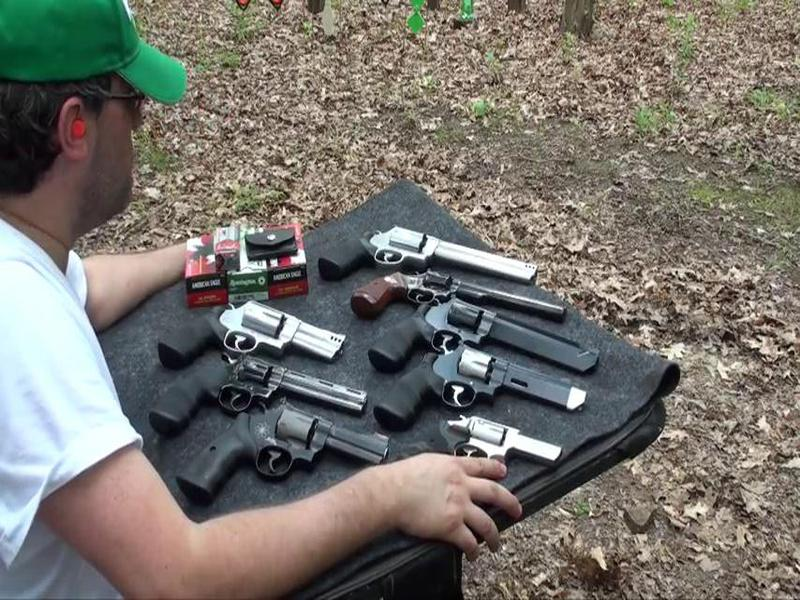Revolver: (183, 399, 400, 506)
